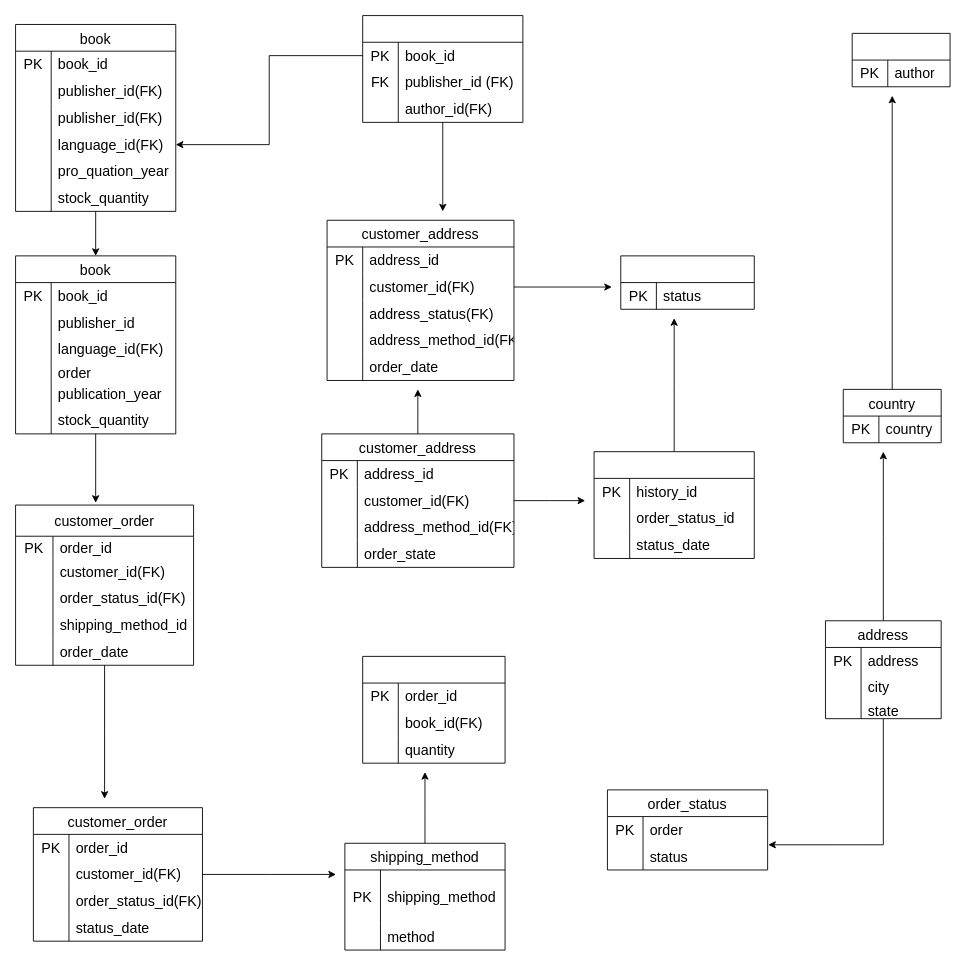
This 966x966 diagram has some shape labels left out. Each missing label, with the box of its shape:
address_status: (620, 255, 754, 309)
book author: (362, 15, 523, 122)
order_history: (593, 451, 754, 558)
order_line: (362, 655, 505, 763)
publisher: (851, 32, 950, 87)
